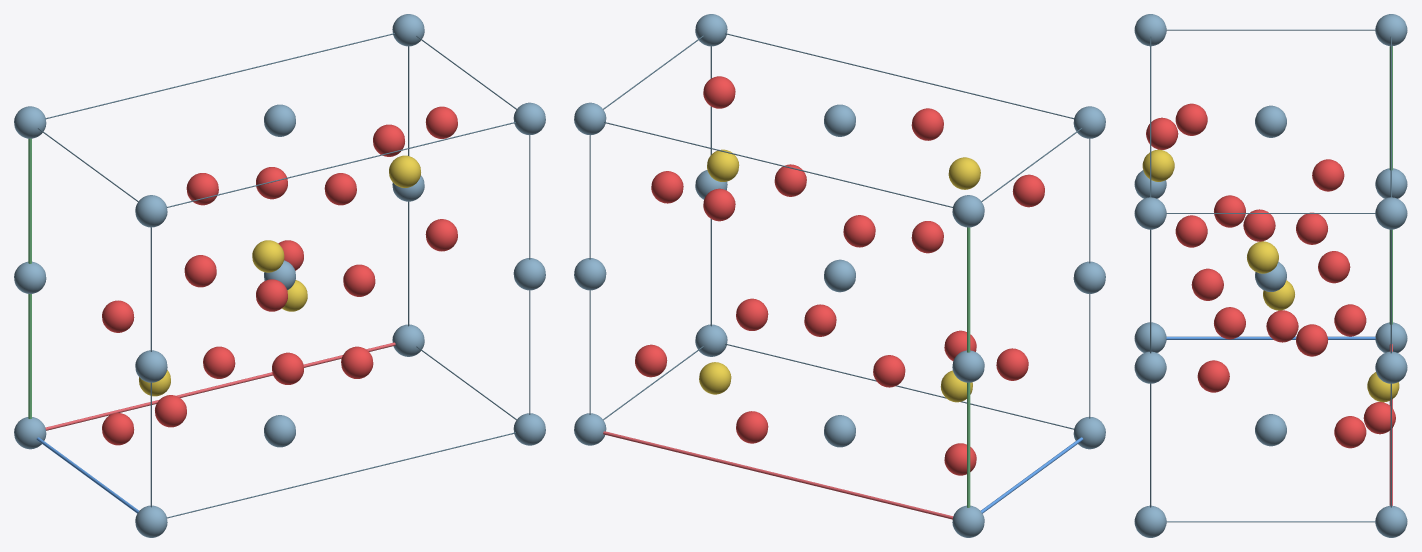
File: chat-zincosite.glb
The picture shows the model from 3 angles, left to right: view 1: azimuth 30°, elevation 25°; view 2: azimuth 150°, elevation 25°; view 3: azimuth 270°, elevation 25°; orthographic projection.
Visible parts, largest first — view 1: Zn · Zn · 1 (×13), Ô mạng và các trục a, b, c, O3 · O · 1 (×7), O2 · O · 1 (×4), O1 · O · 1 (×4), S · S · 1 (×2); view 2: Zn · Zn · 1 (×14), Ô mạng và các trục a, b, c, O3 · O · 1 (×7), O1 · O · 1 (×4), O2 · O · 1 (×4), S · S · 1 (×4); view 3: Zn · Zn · 1 (×15), O3 · O · 1 (×8), Ô mạng và các trục a, b, c, O1 · O · 1 (×4), O2 · O · 1 (×4), S · S · 1 (×4).
Boxes of the visible parts, box(x1,y1,x2,y2) form: Zn · Zn · 1 (×13): box(14, 14, 545, 537); Ô mạng và các trục a, b, c: box(28, 33, 530, 518); O3 · O · 1 (×7): box(102, 106, 457, 445); O2 · O · 1 (×4): box(184, 173, 375, 378); O1 · O · 1 (×4): box(155, 124, 404, 427); S · S · 1 (×2): box(252, 155, 420, 272); Zn · Zn · 1 (×14): box(574, 14, 1105, 537); Ô mạng và các trục a, b, c: box(589, 33, 1090, 519); O3 · O · 1 (×7): box(703, 76, 976, 475); O1 · O · 1 (×4): box(651, 171, 1028, 380); O2 · O · 1 (×4): box(635, 164, 1044, 387); S · S · 1 (×4): box(699, 149, 980, 402); Zn · Zn · 1 (×15): box(1134, 14, 1407, 537); O3 · O · 1 (×8): box(1175, 103, 1366, 448); Ô mạng và các trục a, b, c: box(1150, 29, 1392, 522); O1 · O · 1 (×4): box(1191, 159, 1350, 392); O2 · O · 1 (×4): box(1146, 117, 1395, 434); S · S · 1 (×4): box(1142, 149, 1399, 402).
Bounding box in the file's own units: 9.24 × 7.39 × 5.41.
